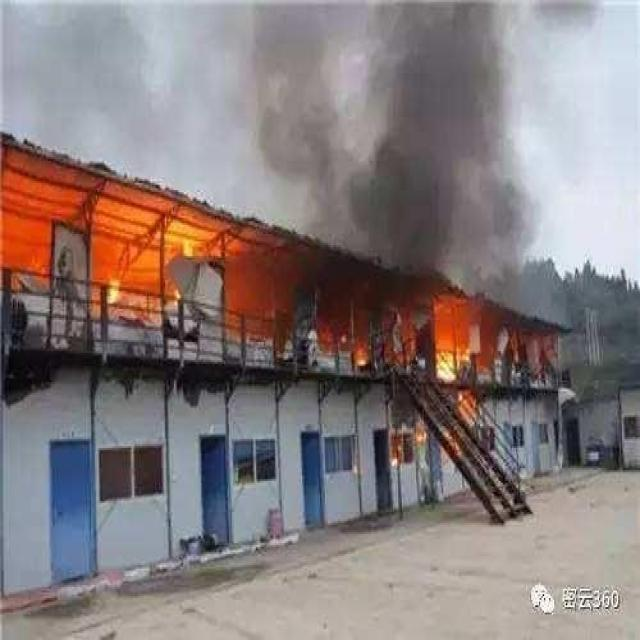fire: (326, 288, 488, 474), (78, 222, 216, 342)
smoke: (261, 11, 512, 282)
